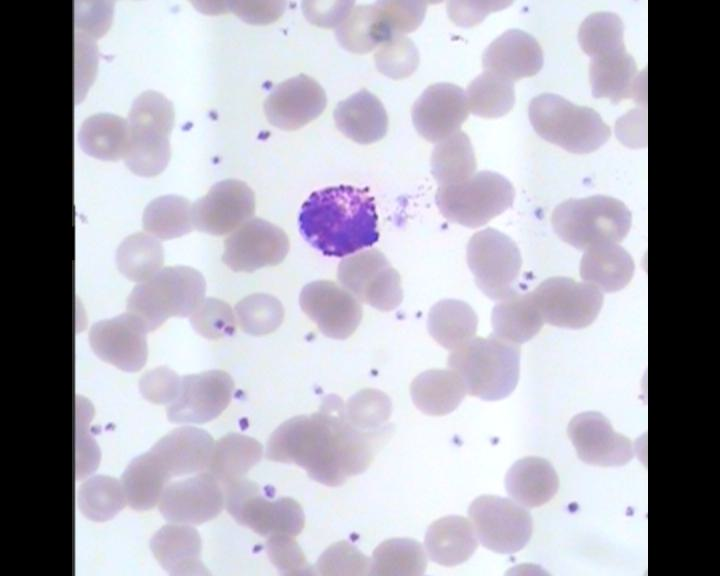baso: (295, 181, 381, 262)
